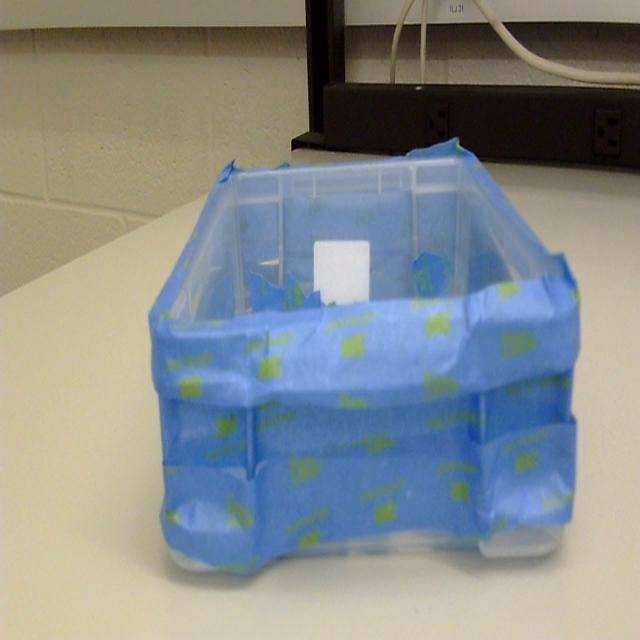bucket: (147, 133, 582, 585)
